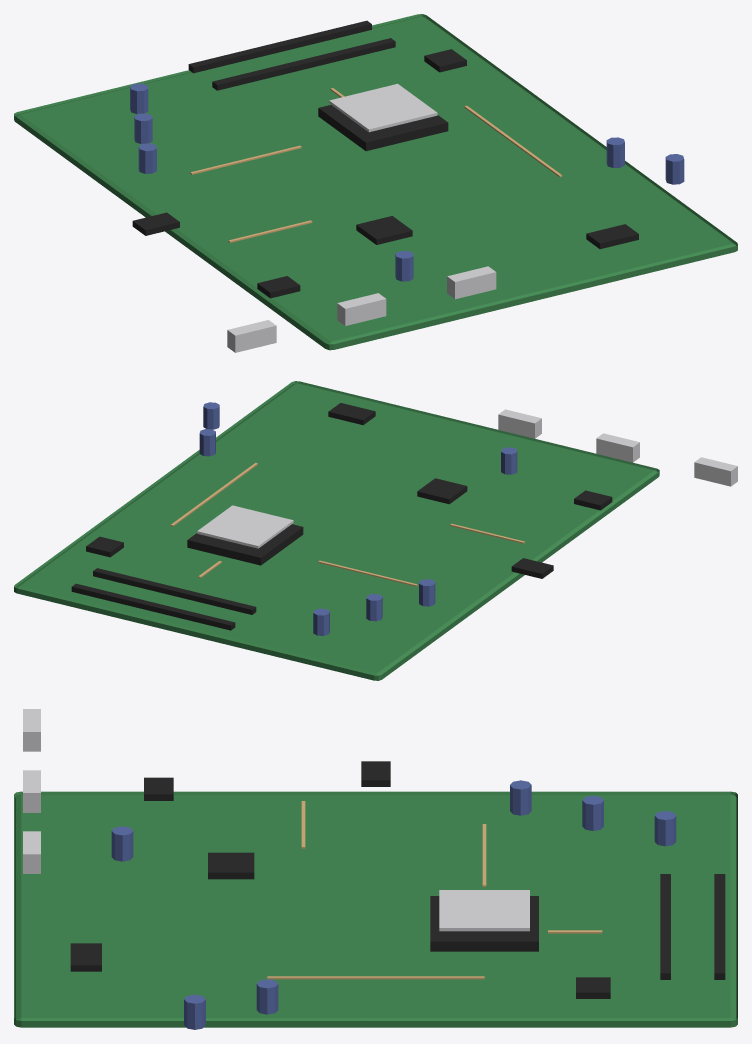
File: prop_motherboard.glb
3 renders of one model, top to bottom at view 1: azimuth 30°, elevation 25°; view 2: azimuth 150°, elevation 25°; view 3: azimuth 270°, elevation 25°, orthographic. The views are drawn at different scales.
Visible parts, largest first — view 1: prop_motherboard; view 2: prop_motherboard; view 3: prop_motherboard.
Part boxes in pixels (x1,y1,x2,y2): prop_motherboard: [14, 14, 737, 352]; prop_motherboard: [14, 381, 737, 680]; prop_motherboard: [14, 709, 737, 1029].
Size of the model in its own units: 0.1905 by 0.012 by 0.2.
